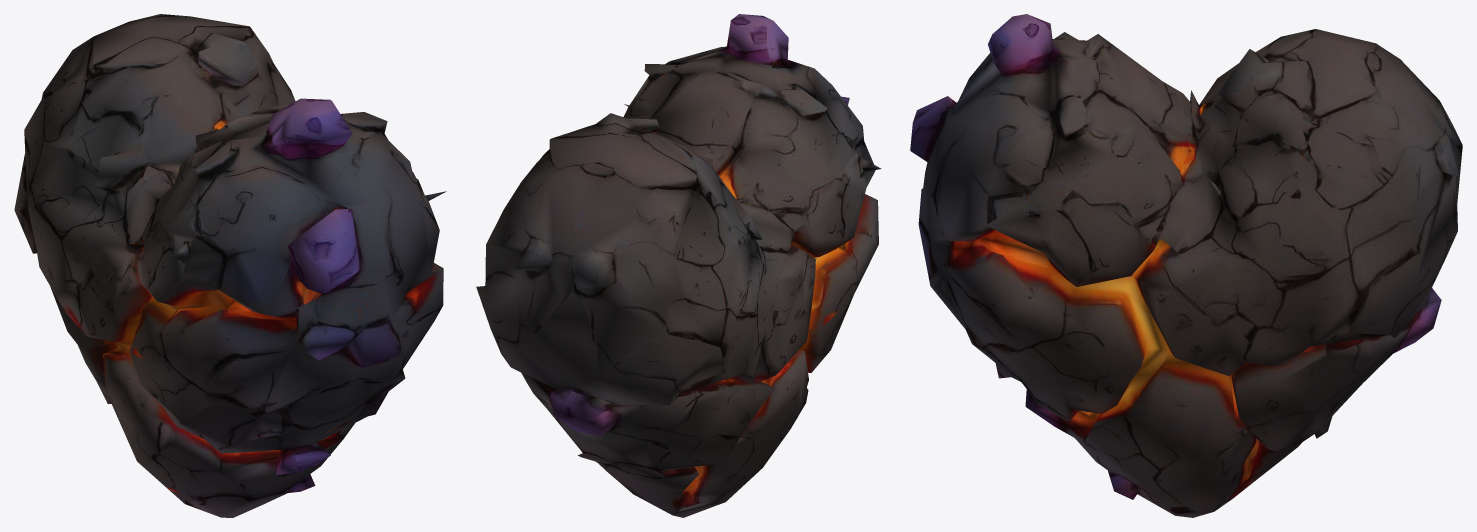
The model's file is relic-cinder.glb.
3 renders of one model, left to right at view 1: azimuth 30°, elevation 25°; view 2: azimuth 150°, elevation 25°; view 3: azimuth 270°, elevation 25°, orthographic. The views are drawn at different scales.
Visible parts, largest first — view 1: tripo_node_4e85a593-a430-45e7-ba9d-ecd5d8389c78; view 2: tripo_node_4e85a593-a430-45e7-ba9d-ecd5d8389c78; view 3: tripo_node_4e85a593-a430-45e7-ba9d-ecd5d8389c78.
Boxes of the visible parts, <box> form: tripo_node_4e85a593-a430-45e7-ba9d-ecd5d8389c78: <box>14,14,446,517</box>; tripo_node_4e85a593-a430-45e7-ba9d-ecd5d8389c78: <box>476,14,881,517</box>; tripo_node_4e85a593-a430-45e7-ba9d-ecd5d8389c78: <box>910,14,1462,517</box>.
Size of the model in its own units: 0.5993 by 0.9741 by 0.994.
Materials: 1 (1 with a texture image).
